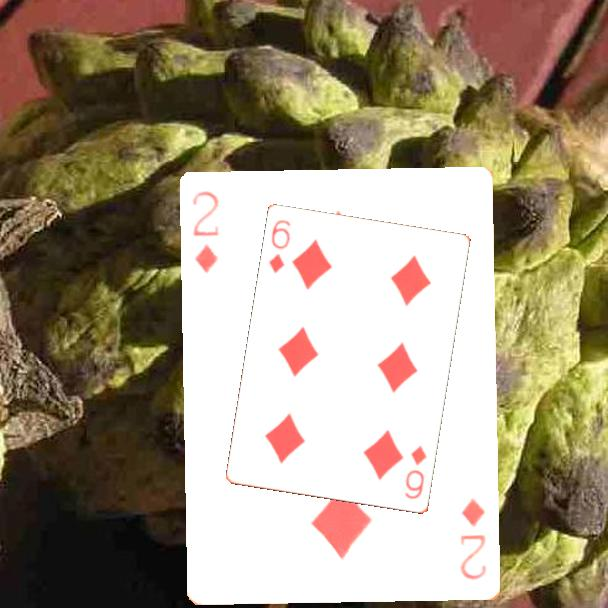d02: (457, 495, 490, 583), (189, 188, 222, 276)
d06: (401, 443, 430, 502), (266, 217, 294, 277)
